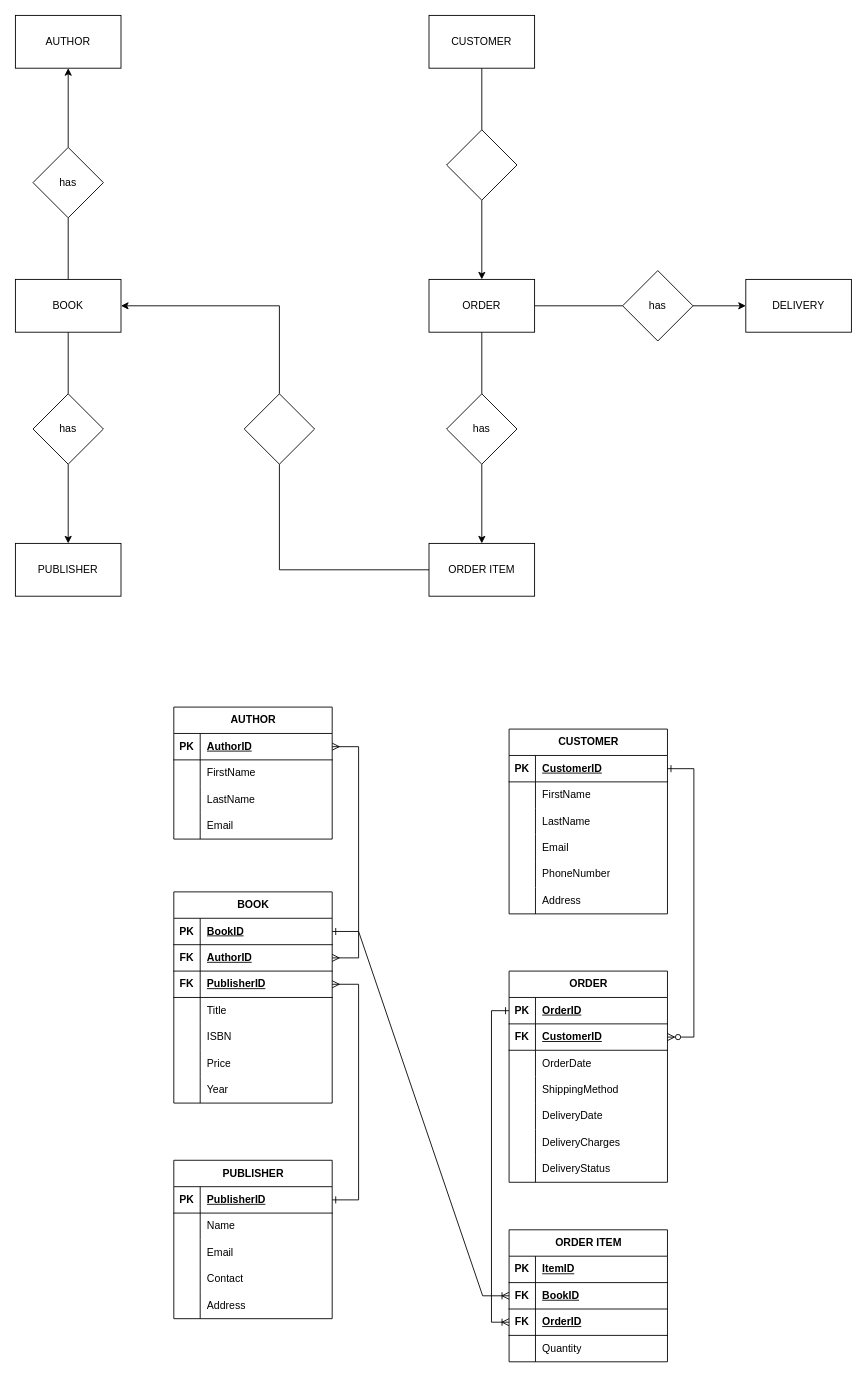
The diagram is 867 pixels wide and 1377 high, and some of its shapes have lost their labels. The centre of each missing label's shape, as x and y in pixels:
"is / has" goes at (279,428).
"place" goes at (481,164).
